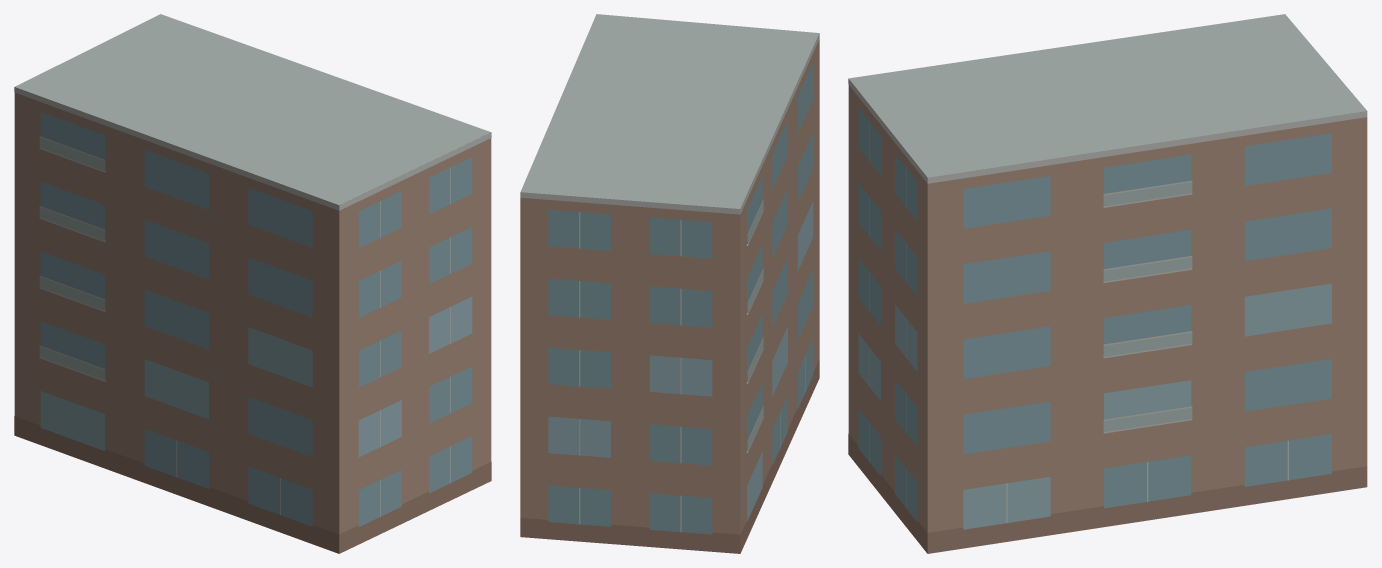
Rendered from survey-upis-32740088.glb.
3 views of the same model, side by side, from view 1: azimuth 30°, elevation 25°; view 2: azimuth 150°, elevation 25°; view 3: azimuth 270°, elevation 25° (orthographic). The views are drawn at different scales.
Parts seen in each view (by area): view 1: survey-upis-32740088.tmp; view 2: survey-upis-32740088.tmp; view 3: survey-upis-32740088.tmp.
Part boxes in pixels (box(x1,y1,x2,y2)): survey-upis-32740088.tmp: box(14, 14, 491, 553); survey-upis-32740088.tmp: box(520, 14, 819, 553); survey-upis-32740088.tmp: box(848, 14, 1367, 553).
Bounding box in the file's own units: 14.25 × 15.25 × 19.08.
